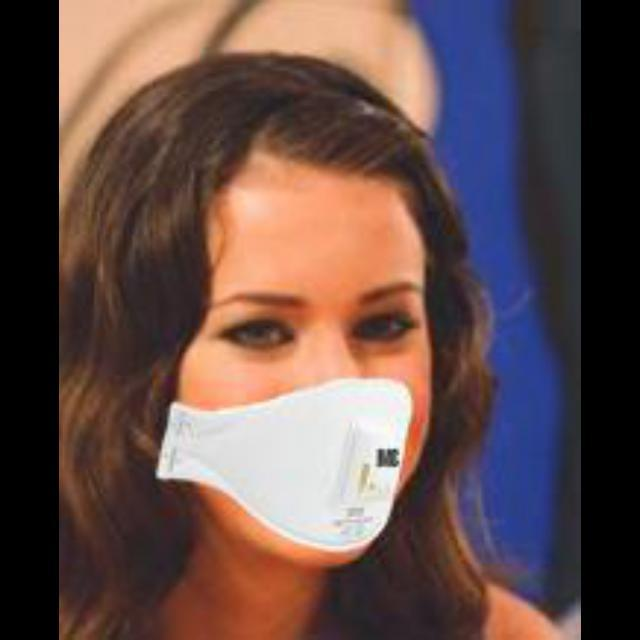suspicion: (75, 89, 465, 552)
